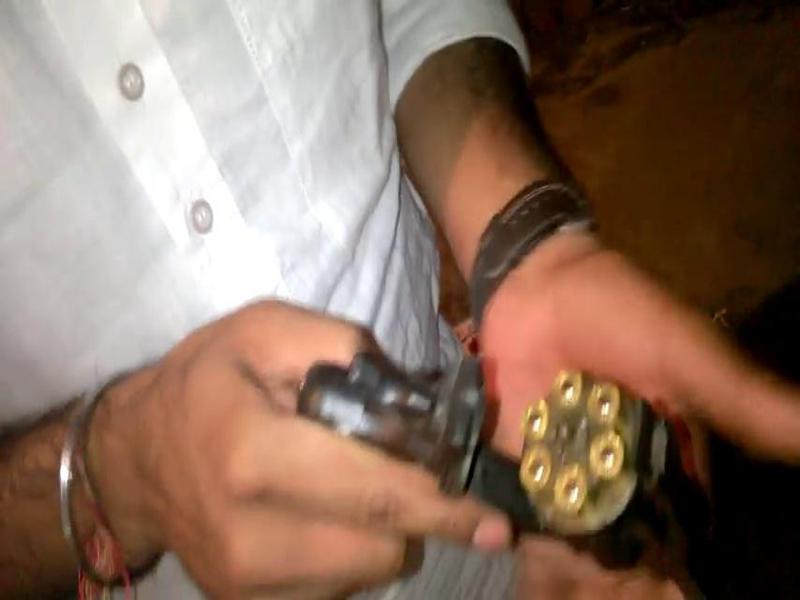Revolver: (264, 329, 759, 600)
